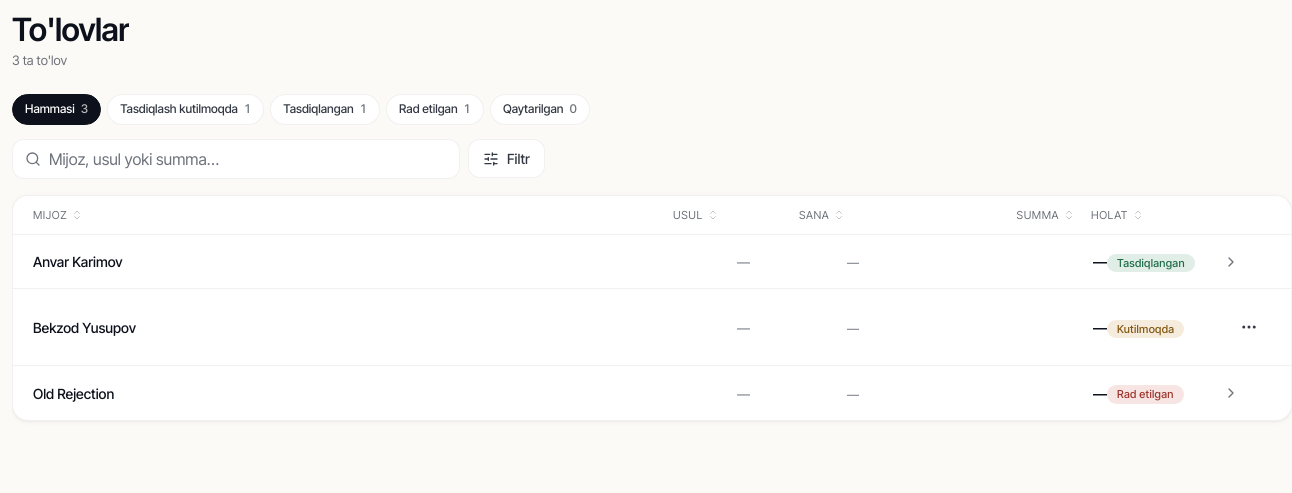
Test: the empty state distinguishes "this tab has nothing" from "no payments at all" › a status tab with zero rows shows the filtered empty state, with a way to clear it
Click the tab "Qaytarilgan0": [540, 109] box [490,94,590,125]
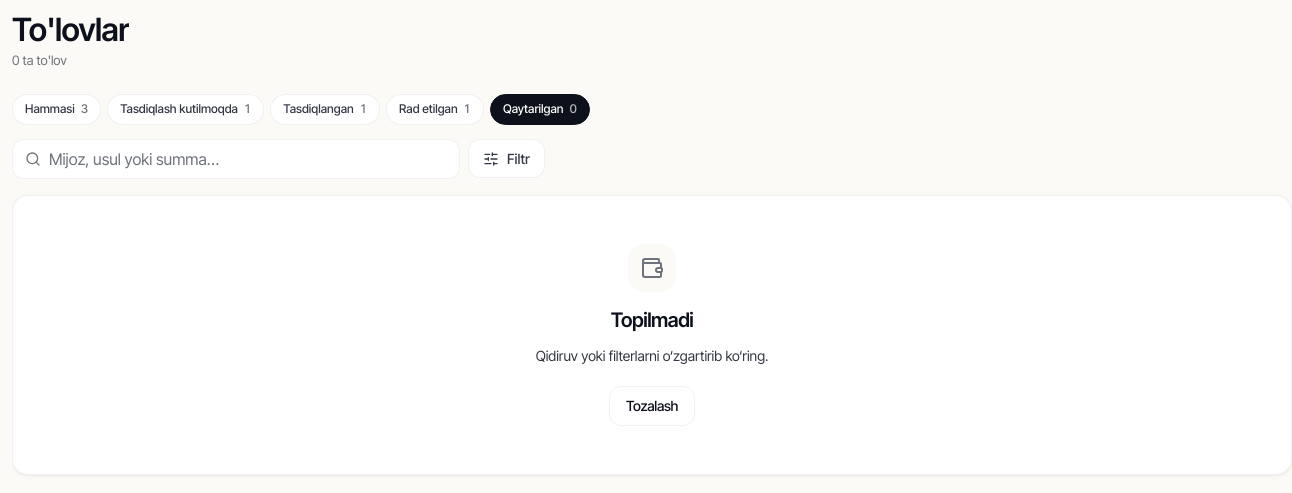
Now the heading "Topilmadi" is shown, box [611,308,693,333]
Now the button "Tozalash" is shown, box [609,386,695,426]
